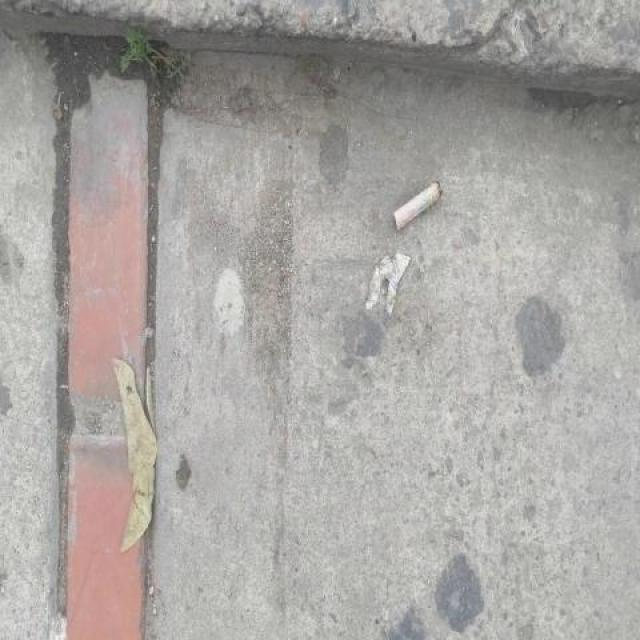non-organic waste: (388, 178, 444, 234)
